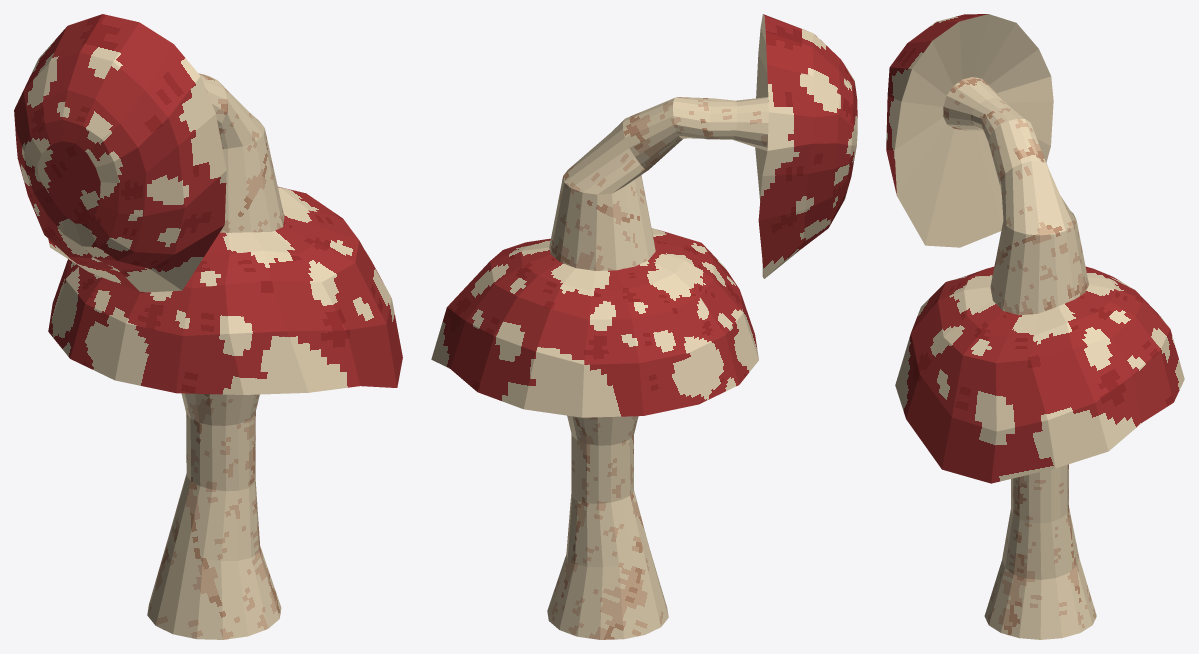
Rendered from mushroom_med.fbx.
3 renders of one model, left to right at view 1: azimuth 30°, elevation 25°; view 2: azimuth 150°, elevation 25°; view 3: azimuth 270°, elevation 25°, orthographic. The views are drawn at different scales.
Visible parts, largest first — view 1: Mushroom_Large _2; view 2: Mushroom_Large _2; view 3: Mushroom_Large _2.
Boxes of the visible parts, bbox=[...] form: Mushroom_Large _2: bbox=[14, 14, 402, 639]; Mushroom_Large _2: bbox=[431, 14, 857, 639]; Mushroom_Large _2: bbox=[886, 14, 1184, 639].
Size of the model in its own units: 779 by 1223 by 608.
